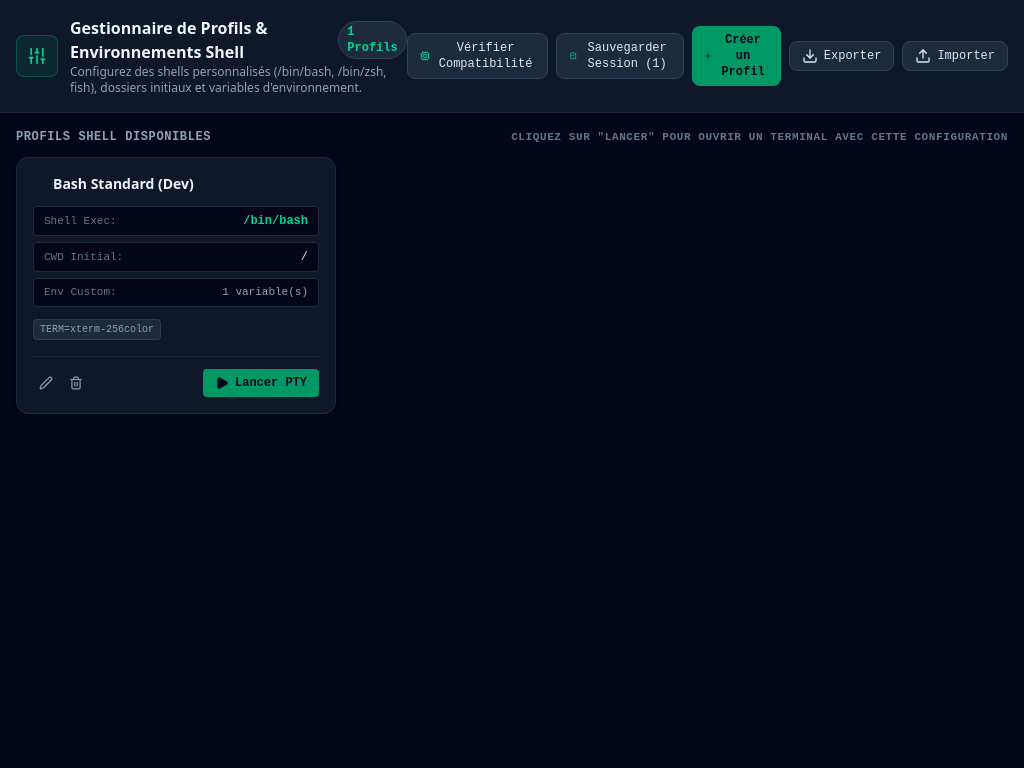
it: ProfileManager Component › shows an error message when the shell audit fails
What coordinates should you click on to do the following:
click the button "Vérifier Compatibilité"
I would click on:
 (478, 56)
Its box is [407, 33, 548, 79].
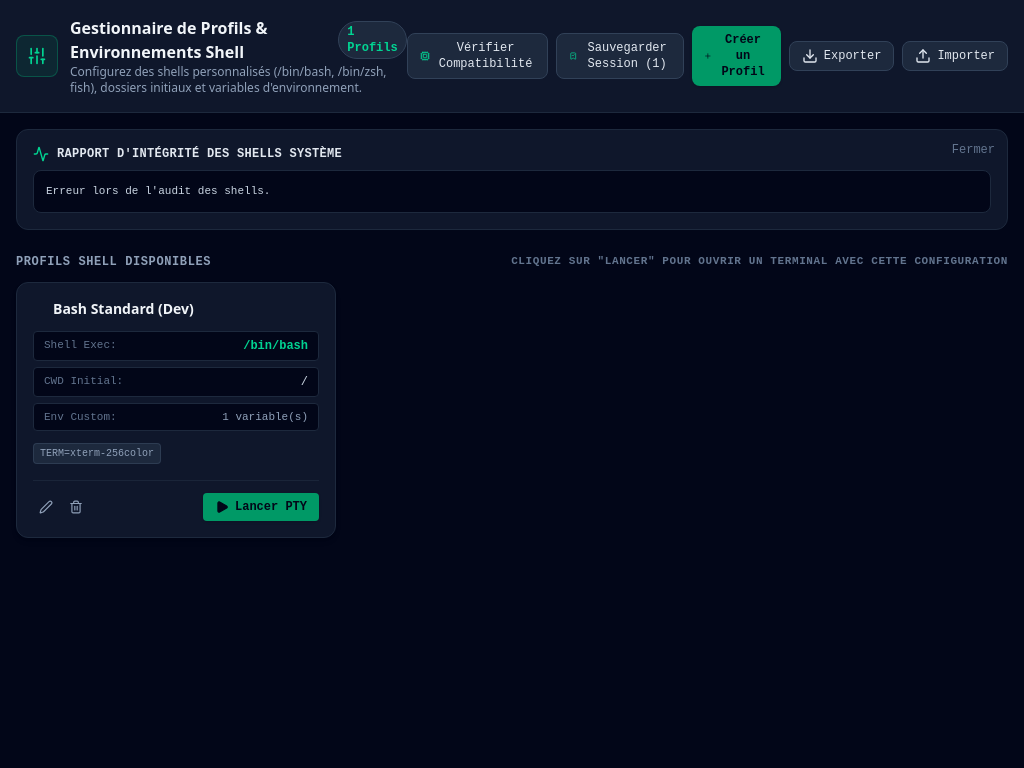
Result: the text "Erreur lors de l'audit des shells." is shown at [46, 185, 270, 197]
